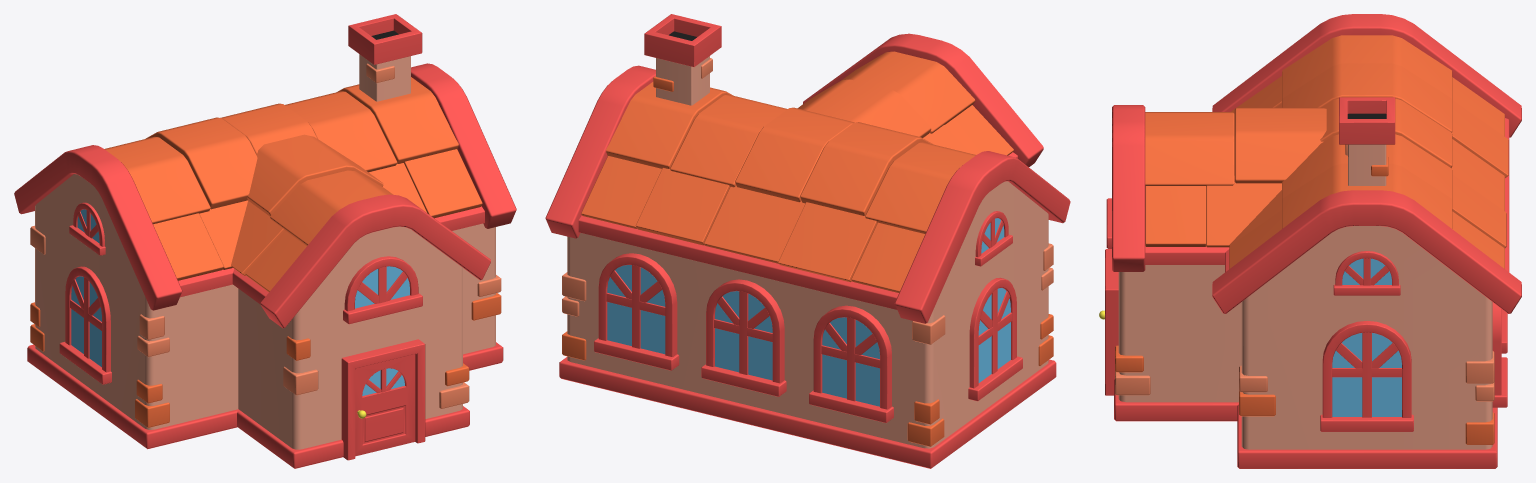
File: Town_11_House_1.glb
3 renders of one model, left to right at view 1: azimuth 30°, elevation 25°; view 2: azimuth 150°, elevation 25°; view 3: azimuth 270°, elevation 25°, orthographic. The views are drawn at different scales.
Visible parts, largest first — view 1: Town_11_House_1; view 2: Town_11_House_1; view 3: Town_11_House_1.
Part boxes in pixels (x1,y1,x2,y2): Town_11_House_1: (14, 14, 516, 468); Town_11_House_1: (545, 14, 1070, 468); Town_11_House_1: (1099, 14, 1521, 468).
Bounding box in the file's own units: 9.54 × 7.49 × 8.71.
Materials: 1 (1 with a texture image).
